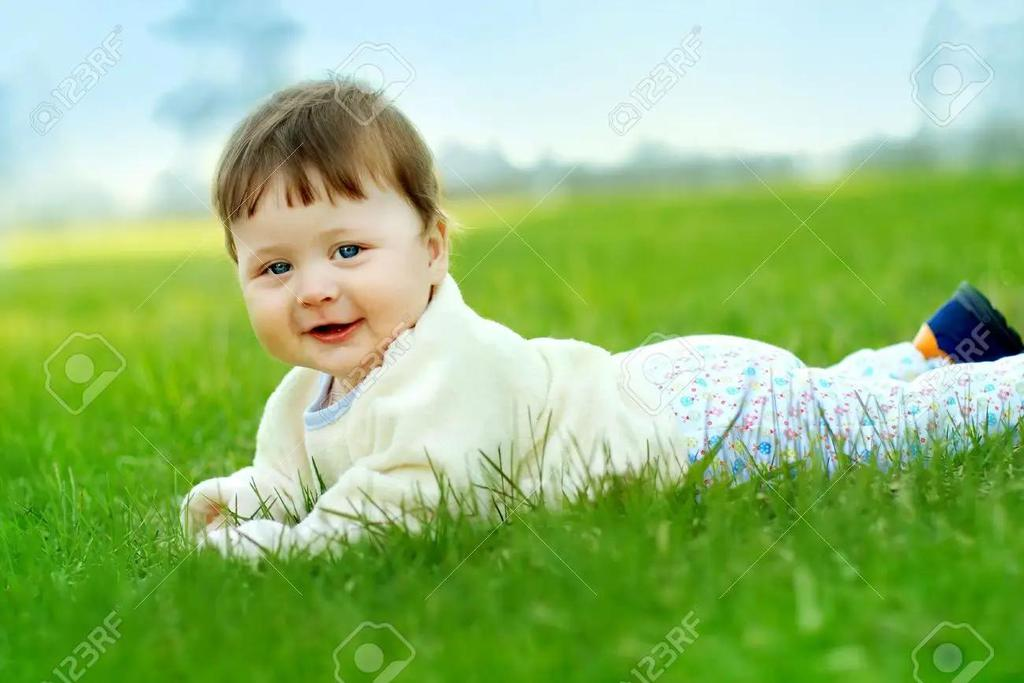child: (150, 78, 1024, 557)
